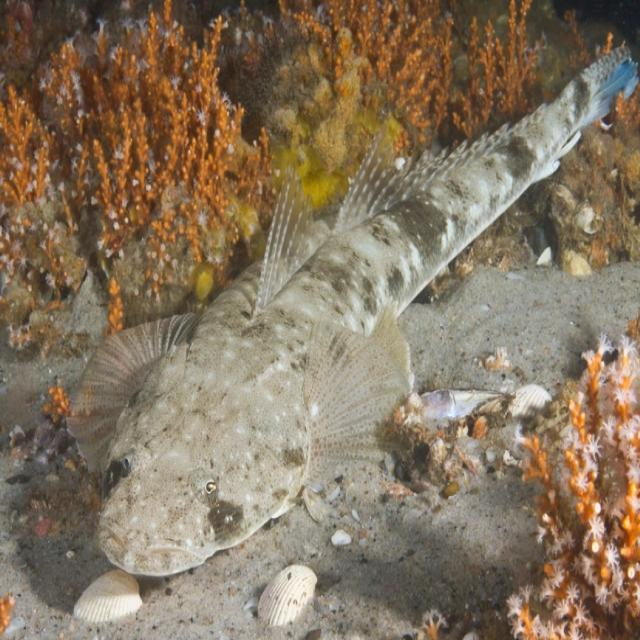Flathead: (55, 25, 640, 611)
